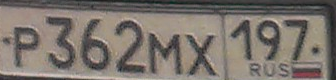character: (42, 9, 77, 72), (114, 15, 147, 76), (79, 15, 113, 71), (145, 28, 184, 76), (183, 28, 221, 77), (282, 12, 315, 63), (11, 21, 42, 71), (255, 18, 283, 64), (229, 16, 256, 62)
